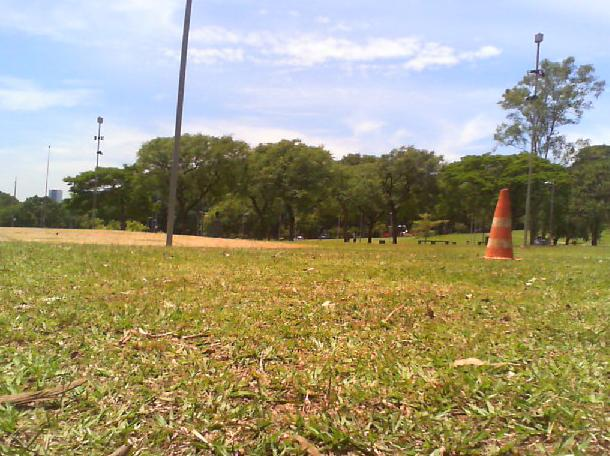0 cone: (482, 187, 522, 261)
